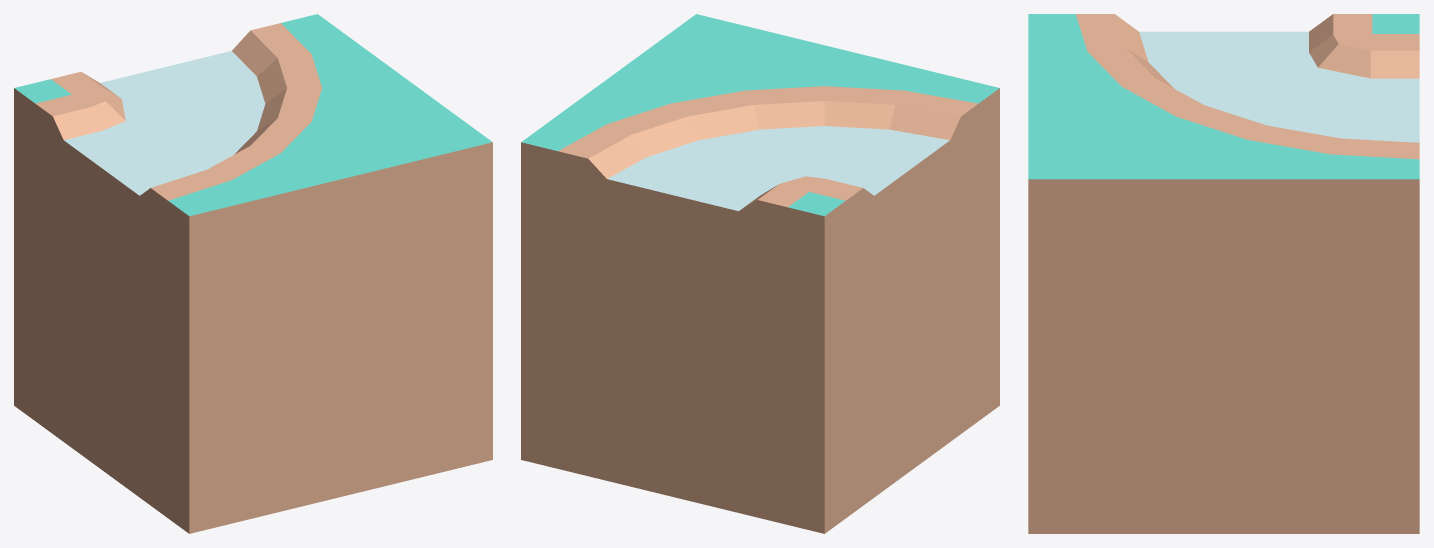
Rendered from blockRiverCorner.fbx.
The picture shows the model from 3 angles, left to right: view 1: azimuth 30°, elevation 25°; view 2: azimuth 150°, elevation 25°; view 3: azimuth 270°, elevation 25°; orthographic projection. The views are drawn at different scales.
Visible parts, largest first — view 1: blockRiverCorner; view 2: blockRiverCorner; view 3: blockRiverCorner.
Part boxes in pixels (x1,y1,x2,y2): blockRiverCorner: [14, 14, 492, 533]; blockRiverCorner: [521, 14, 999, 533]; blockRiverCorner: [1028, 14, 1419, 533].
Bounding box in the file's own units: 100 × 100 × 100.
